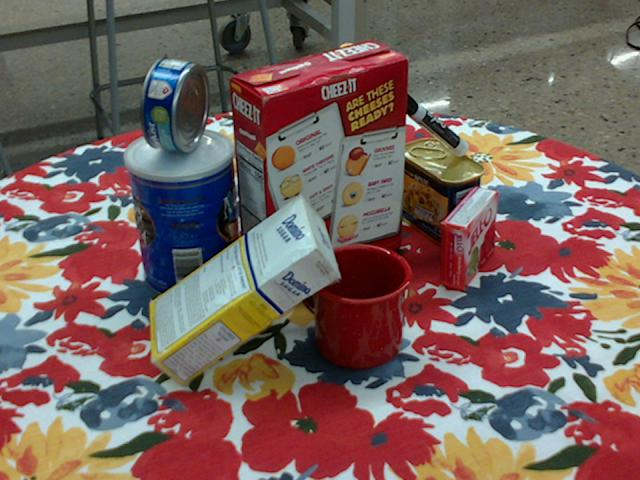cracker_box: (228, 41, 409, 298)
gelatin_box: (439, 186, 498, 290)
large_marker: (392, 90, 468, 155)
master_chef_can: (125, 128, 239, 302)
mug: (298, 242, 412, 368)
mustard_bottle: (318, 44, 384, 223)
potted_meat_can: (398, 138, 484, 246)
sugar_box: (147, 195, 339, 389)
tomato_soup_can: (234, 115, 298, 223)
tuna_fish_can: (140, 57, 207, 152)
